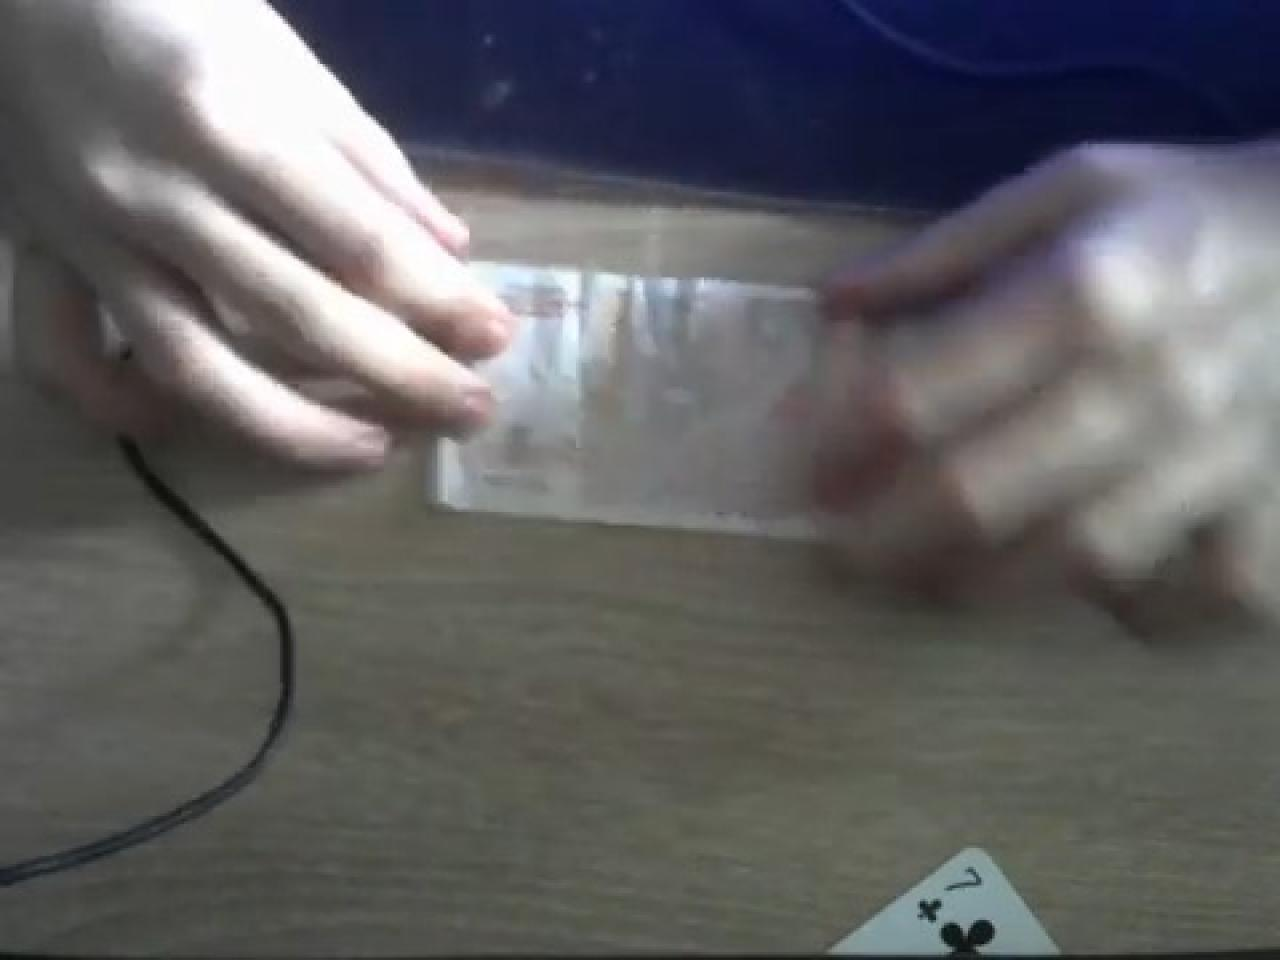5leva: (421, 259, 818, 536)
